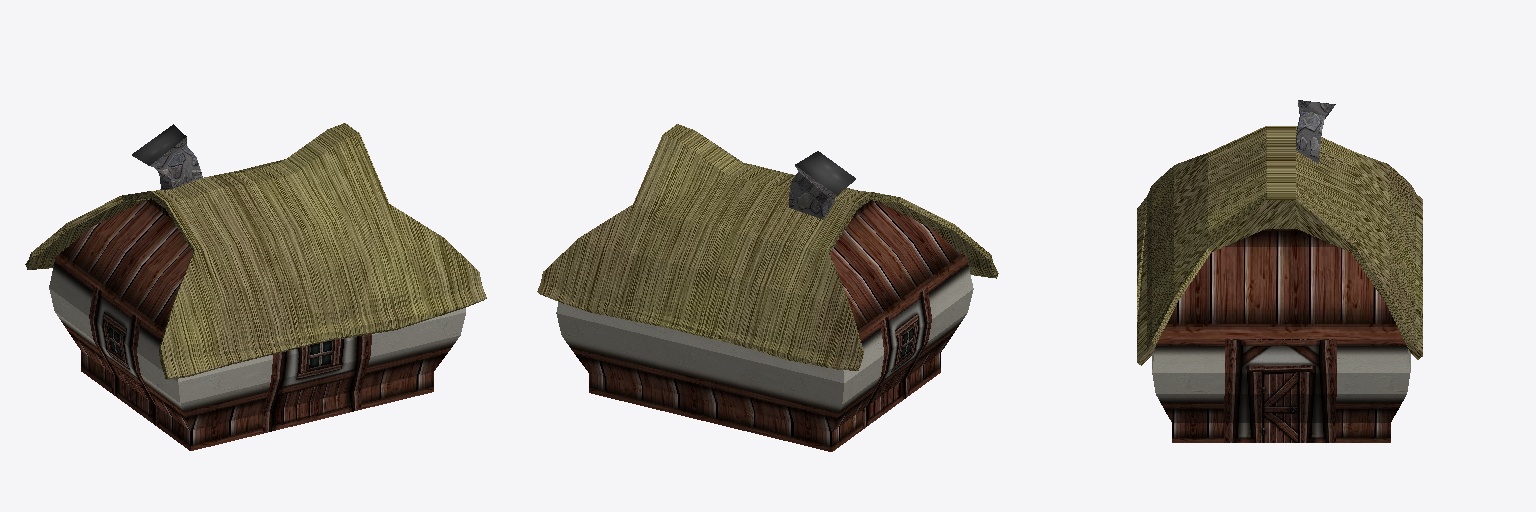
The picture shows the model from 3 angles: view 1: azimuth 30°, elevation 25°; view 2: azimuth 150°, elevation 25°; view 3: azimuth 270°, elevation 25°; orthographic projection.
Visible parts, largest first — view 1: house5; view 2: house5; view 3: house5.
Part boxes in pixels (left/top/right/bottom): house5: left=25, top=123, right=486, bottom=450; house5: left=537, top=124, right=998, bottom=451; house5: left=1137, top=100, right=1422, bottom=442.
Size of the model in its own units: 16.81 by 12.78 by 13.06.
6 materials, 6 textured.